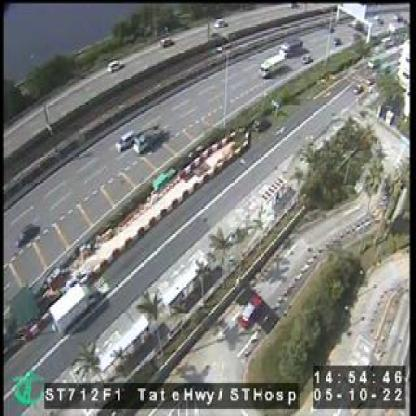Car: (14, 220, 35, 248), (113, 130, 134, 153)
Truck: (47, 281, 94, 336), (134, 120, 162, 149), (257, 54, 281, 76), (278, 35, 302, 56)
